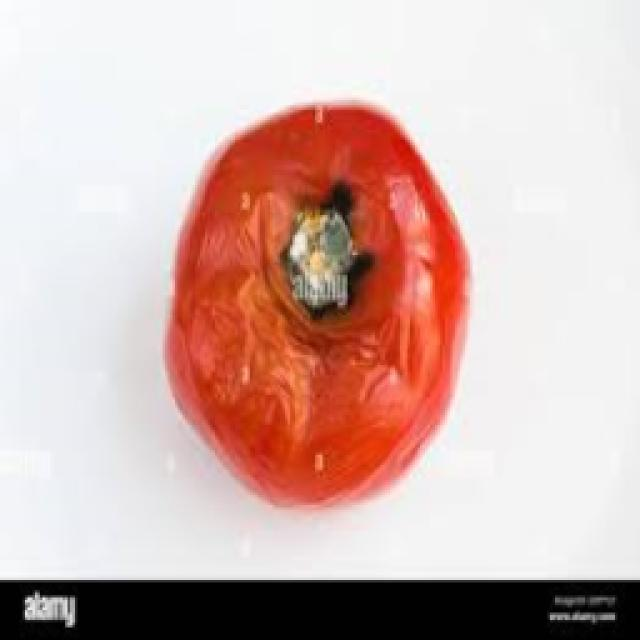overripe tomato: (150, 94, 480, 523)
